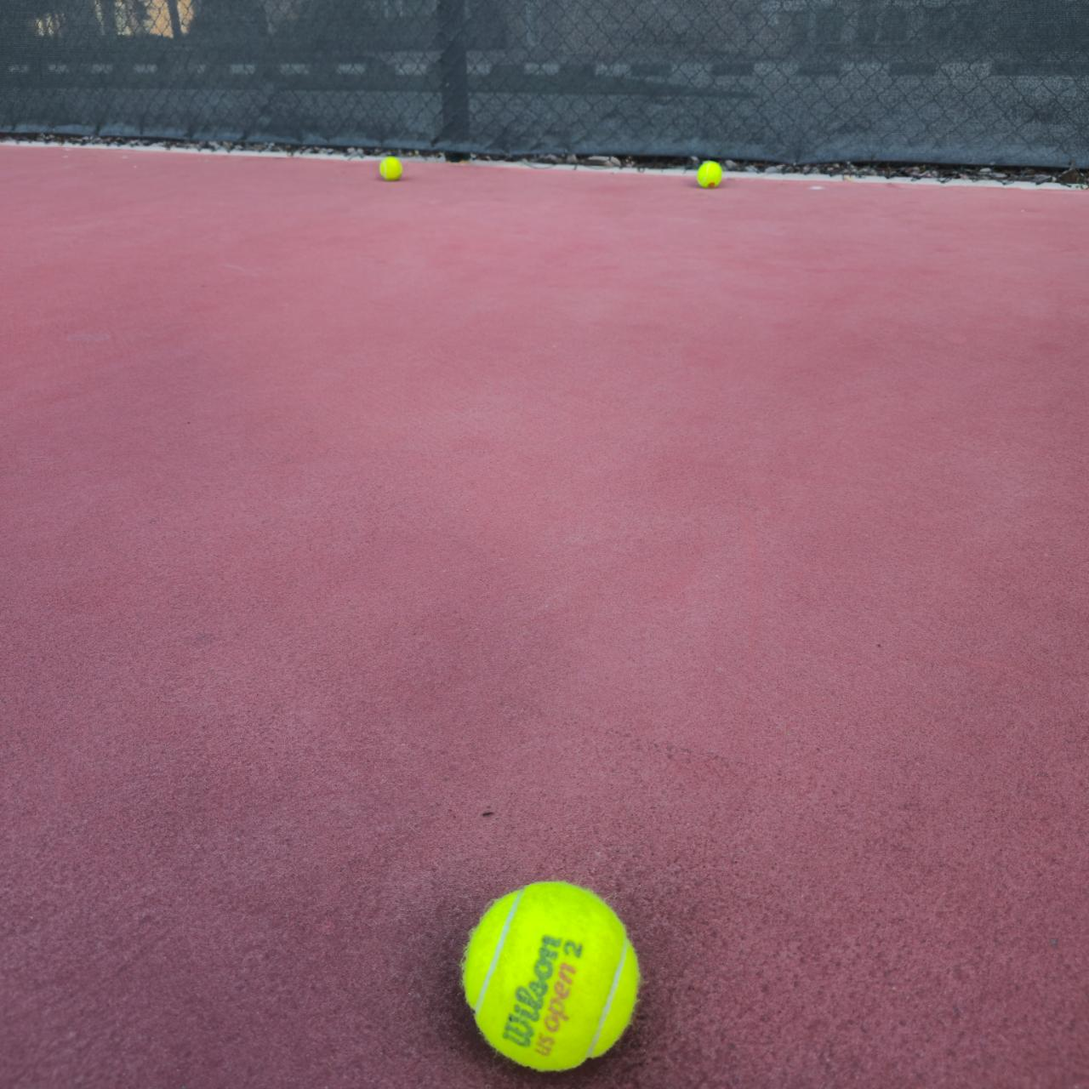tennis-ball: (458, 876, 642, 1073), (697, 161, 723, 189), (380, 156, 403, 181)
